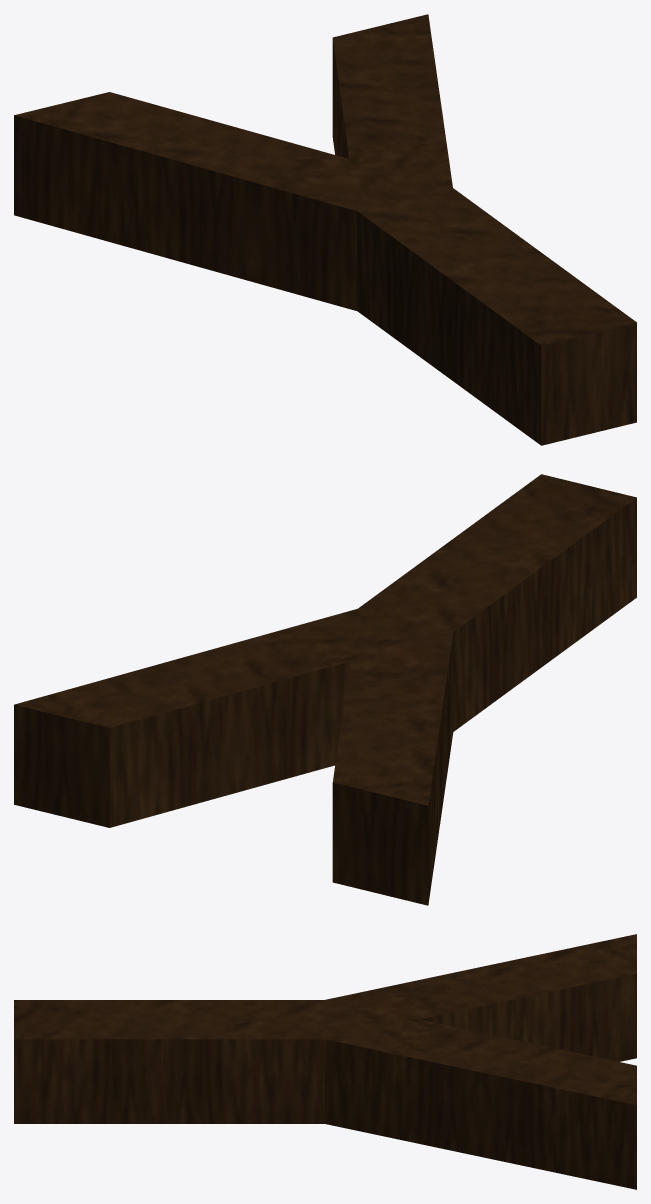
The model's file is LetterY.obj.
3 renders of one model, top to bottom at view 1: azimuth 30°, elevation 25°; view 2: azimuth 150°, elevation 25°; view 3: azimuth 270°, elevation 25°, orthographic. The views are drawn at different scales.
Parts seen in each view (by area): view 1: LetterY; view 2: LetterY; view 3: LetterY.
Boxes of the visible parts, box(x1,y1,x2,y2) form: LetterY: box(14, 14, 636, 445); LetterY: box(14, 474, 636, 905); LetterY: box(14, 934, 636, 1189).
Bounding box in the file's own units: 0.6501 × 0.15 × 1.
